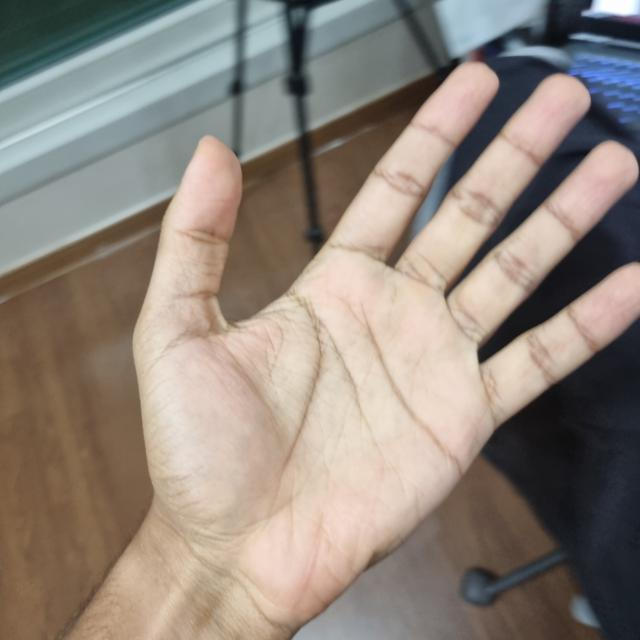Paper: (139, 63, 640, 619)
